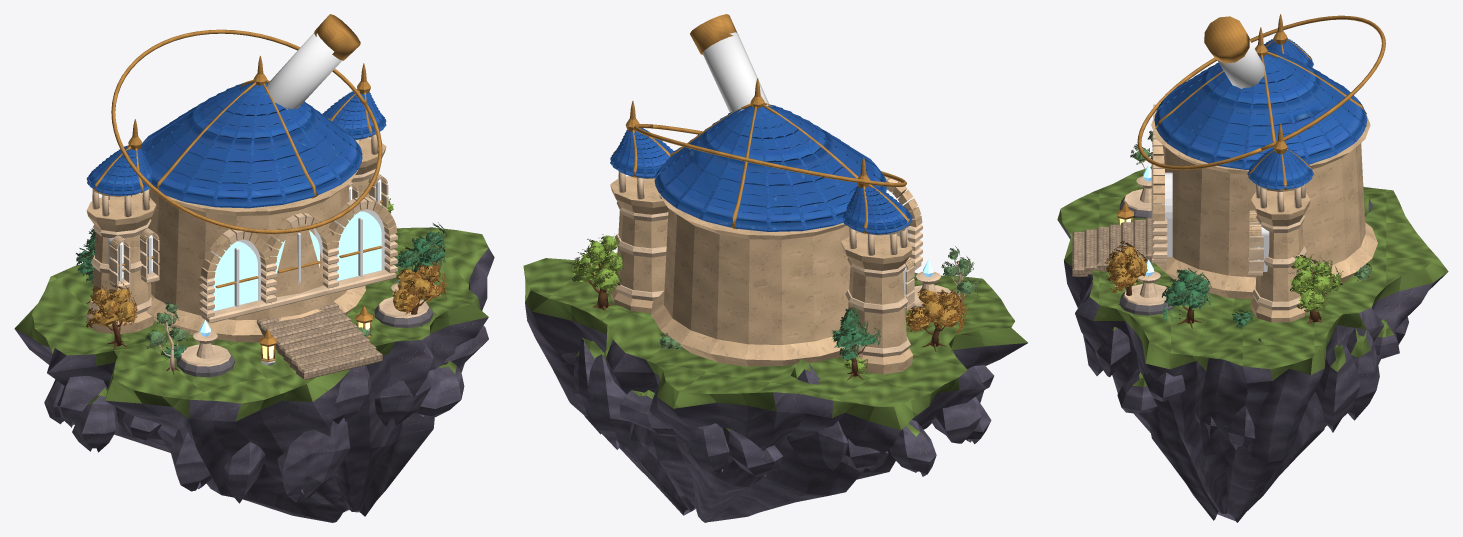
Rendered from island-2.glb.
The picture shows the model from 3 angles, left to right: view 1: azimuth 30°, elevation 25°; view 2: azimuth 150°, elevation 25°; view 3: azimuth 270°, elevation 25°; orthographic projection. The views are drawn at different scales.
Visible parts, largest first — view 1: Stratified cliffs and meadow / cliff, Stratified cliffs and meadow / top, Architecture / roof, Architecture / stone, Architecture / trim, Architecture / gold, Architecture / paving, Architecture / azure_glass, Architecture / iron, Canopy oak / leaves, Canopy oak / sprays, Architecture / joint (+1 smaller); view 2: Stratified cliffs and meadow / cliff, Architecture / stone, Stratified cliffs and meadow / top, Architecture / roof, Architecture / trim, Architecture / gold, Canopy oak / sprays, Canopy oak / leaves, Architecture / iron, Canopy oak / wood; view 3: Stratified cliffs and meadow / cliff, Stratified cliffs and meadow / top, Architecture / stone, Architecture / roof, Architecture / gold, Architecture / trim, Canopy oak / leaves, Canopy oak / sprays, Architecture / paving, Architecture / iron, Architecture / seam, Architecture / joint (+1 smaller).
Boxes of the visible parts, left/top/right/bottom form: Stratified cliffs and meadow / cliff: left=15, top=248, right=494, bottom=522; Stratified cliffs and meadow / top: left=14, top=227, right=488, bottom=421; Architecture / roof: left=86, top=82, right=386, bottom=208; Architecture / stone: left=86, top=138, right=397, bottom=342; Architecture / trim: left=88, top=134, right=428, bottom=370; Architecture / gold: left=93, top=14, right=382, bottom=362; Architecture / paving: left=256, top=301, right=382, bottom=379; Architecture / azure_glass: left=213, top=211, right=381, bottom=310; Architecture / iron: left=118, top=32, right=379, bottom=365; Canopy oak / leaves: left=78, top=192, right=446, bottom=358; Canopy oak / sprays: left=76, top=193, right=446, bottom=358; Architecture / joint: left=176, top=303, right=432, bottom=377; Stratified cliffs and meadow / cliff: left=525, top=303, right=1027, bottom=522; Architecture / stone: left=609, top=176, right=922, bottom=374; Stratified cliffs and meadow / top: left=523, top=258, right=1027, bottom=436; Architecture / roof: left=610, top=104, right=912, bottom=234; Architecture / trim: left=614, top=171, right=973, bottom=357; Architecture / gold: left=613, top=14, right=910, bottom=234; Canopy oak / sprays: left=570, top=234, right=978, bottom=374; Canopy oak / leaves: left=572, top=235, right=974, bottom=371; Architecture / iron: left=702, top=32, right=768, bottom=112; Canopy oak / wood: left=576, top=236, right=966, bottom=380; Stratified cliffs and meadow / cliff: left=1058, top=199, right=1447, bottom=522; Stratified cliffs and meadow / top: left=1057, top=167, right=1448, bottom=386; Architecture / stone: left=1151, top=110, right=1377, bottom=322; Architecture / roof: left=1154, top=38, right=1367, bottom=189; Architecture / gold: left=1117, top=14, right=1385, bottom=224; Architecture / trim: left=1123, top=104, right=1306, bottom=310; Canopy oak / leaves: left=1107, top=136, right=1369, bottom=326; Canopy oak / sprays: left=1104, top=130, right=1372, bottom=328; Architecture / paving: left=1072, top=217, right=1151, bottom=276; Architecture / iron: left=1158, top=40, right=1264, bottom=260; Architecture / seam: left=1163, top=172, right=1269, bottom=271; Architecture / joint: left=1119, top=197, right=1174, bottom=315.
Bounding box in the file's own units: 6.15 × 6.57 × 4.74.
Materials: 19 (11 with a texture image).
